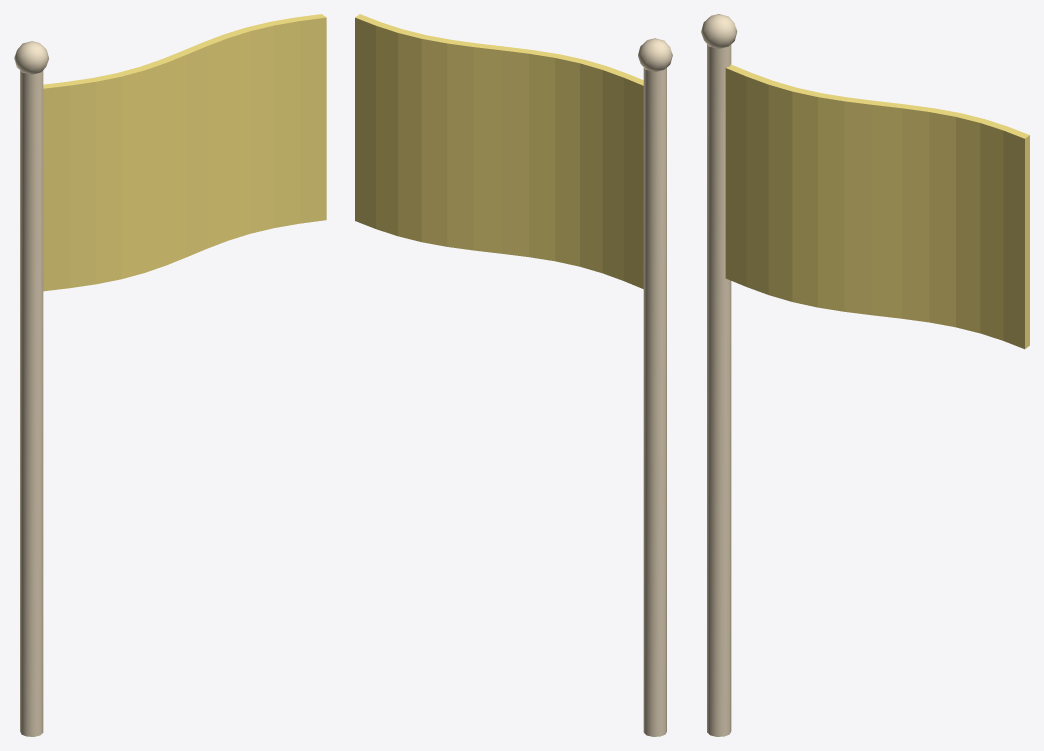
Rendered from EatsaPizzaFlag.glb.
3 renders of one model, left to right at view 1: azimuth 30°, elevation 25°; view 2: azimuth 150°, elevation 25°; view 3: azimuth 330°, elevation 25°, orthographic. The views are drawn at different scales.
Visible parts, largest first — view 1: Flag, Pick; view 2: Flag, Pick; view 3: Flag, Pick.
Boxes of the visible parts, box(x1,y1,x2,y2) form: Flag: box(43, 14, 326, 291); Pick: box(14, 41, 48, 736); Flag: box(355, 14, 643, 288); Pick: box(638, 38, 672, 736); Flag: box(725, 64, 1029, 349); Pick: box(701, 14, 737, 736).
Bounding box in the file's own units: 3.68 × 7.83 × 0.3963.
